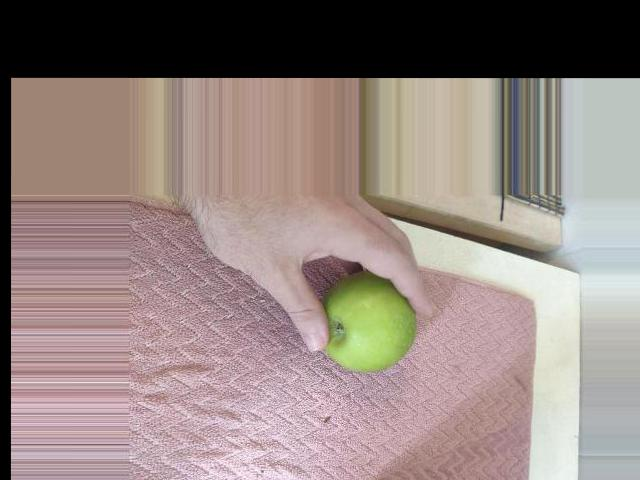apple: (315, 275, 429, 387)
